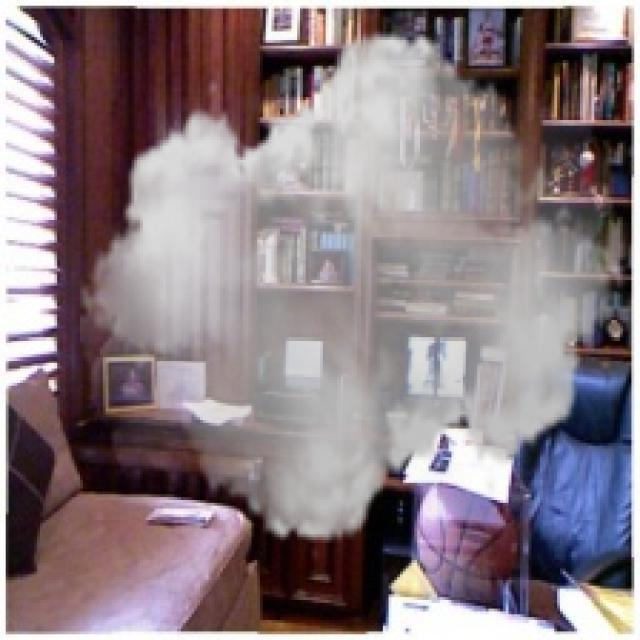Smoke: (80, 11, 626, 563)
